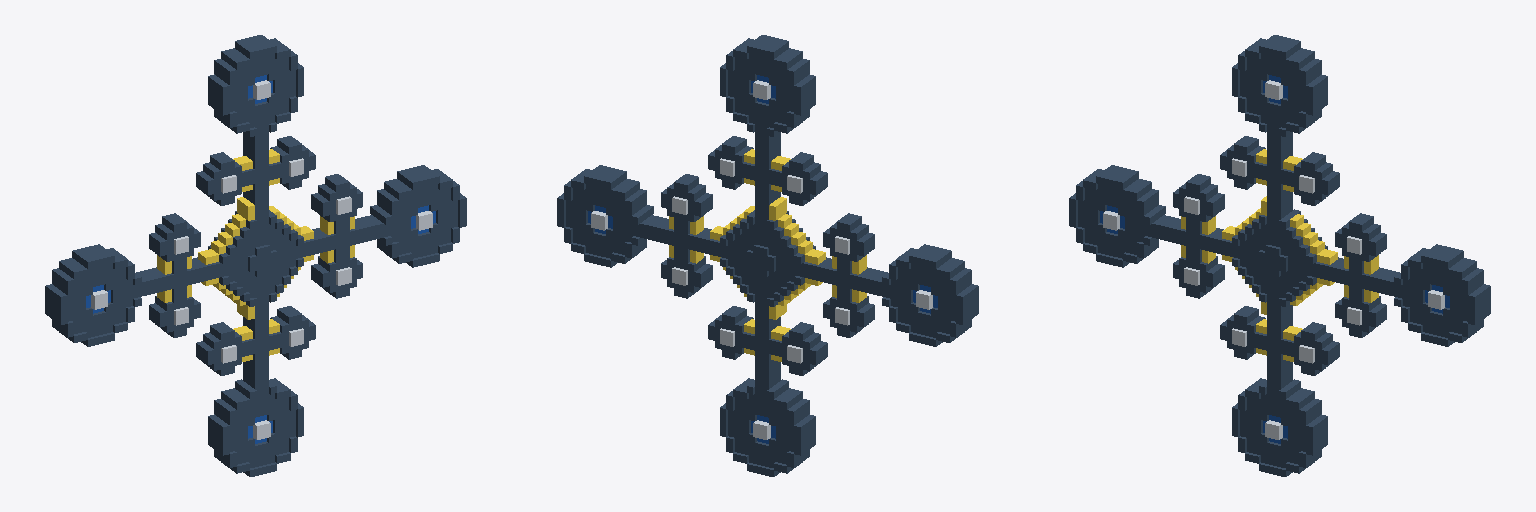
The model's file is Station.obj.
3 renders of one model, left to right at view 1: azimuth 30°, elevation 25°; view 2: azimuth 150°, elevation 25°; view 3: azimuth 330°, elevation 25°, orthographic.
Size of the model in its own units: 60 by 60 by 4.